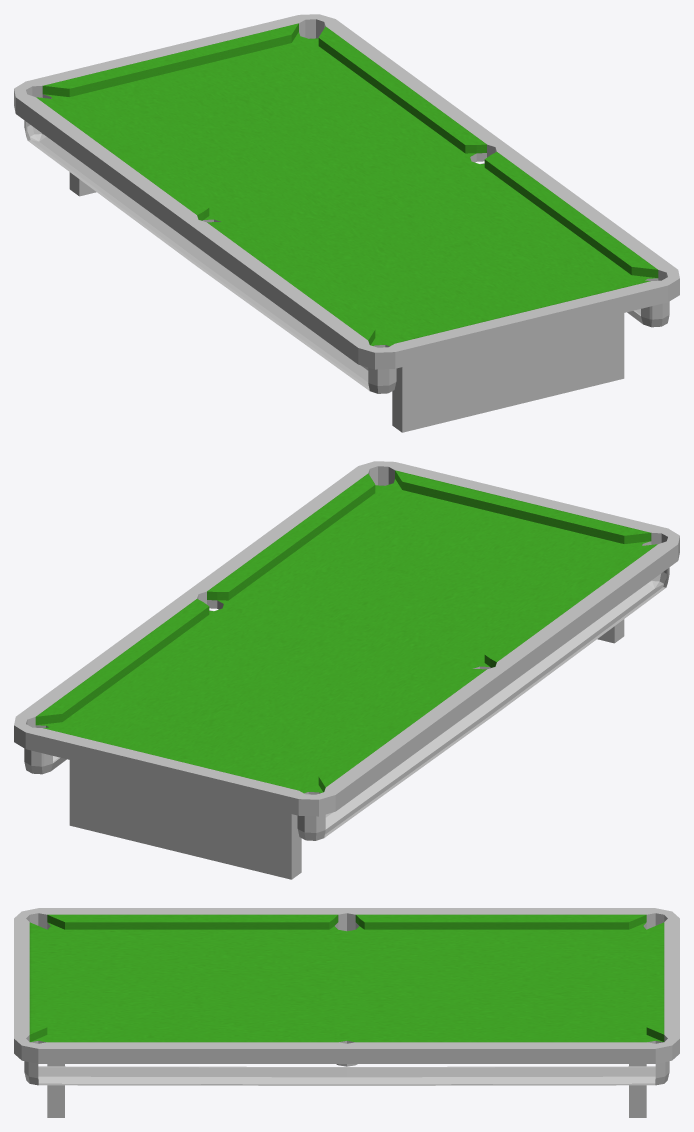
File: BilliardTable.fbx
The picture shows the model from 3 angles, top to bottom: view 1: azimuth 30°, elevation 25°; view 2: azimuth 150°, elevation 25°; view 3: azimuth 270°, elevation 25°; orthographic projection. The views are drawn at different scales.
Parts seen in each view (by area): view 1: Table_WoolPart, Table_WoodPart; view 2: Table_WoolPart, Table_WoodPart; view 3: Table_WoolPart, Table_WoodPart.
Boxes of the visible parts, left/top/right/bottom form: Table_WoolPart: left=36, top=23, right=658, bottom=346; Table_WoodPart: left=14, top=14, right=679, bottom=432; Table_WoolPart: left=35, top=470, right=657, bottom=793; Table_WoodPart: left=14, top=461, right=679, bottom=879; Table_WoolPart: left=29, top=914, right=664, bottom=1042; Table_WoodPart: left=14, top=908, right=679, bottom=1117.
Size of the model in its own units: 200 by 60 by 400.
